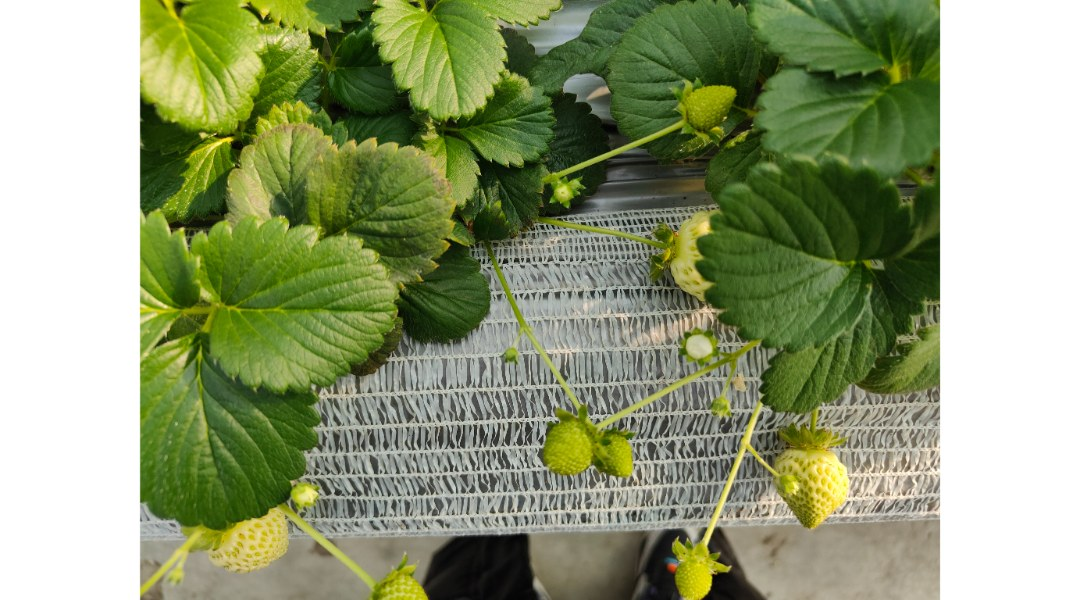berry: (775, 428, 856, 539), (194, 505, 291, 578), (659, 76, 749, 148), (657, 531, 735, 600), (535, 401, 596, 485), (352, 553, 442, 600), (591, 416, 642, 485), (678, 323, 721, 373), (545, 179, 596, 211), (279, 470, 321, 508), (489, 337, 534, 369), (771, 476, 804, 499)
strain: (469, 241, 590, 419), (543, 120, 689, 176), (608, 370, 699, 432), (294, 517, 372, 588), (125, 532, 194, 600), (703, 446, 743, 553), (748, 392, 764, 442)
